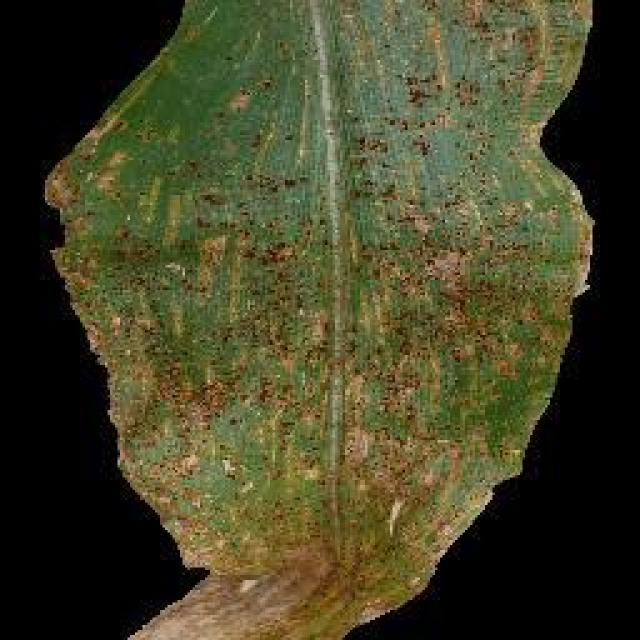Corn Common Rust: (175, 146, 440, 582)
